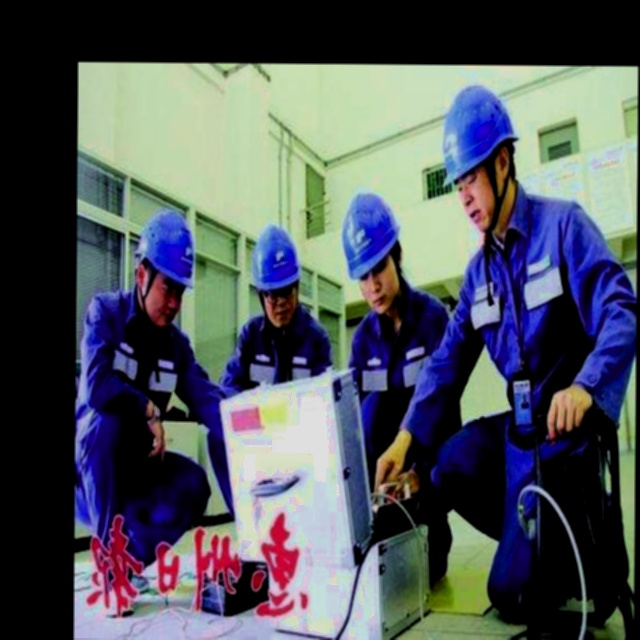Con_Casco: (447, 84, 520, 211), (128, 211, 198, 315), (348, 195, 400, 308), (253, 224, 305, 319)
